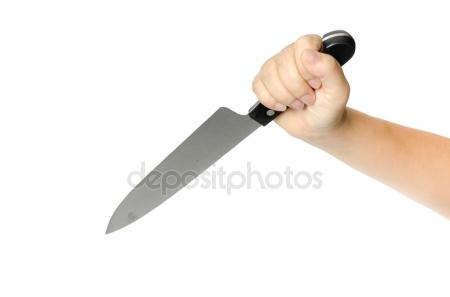knife: (99, 67, 320, 240)
